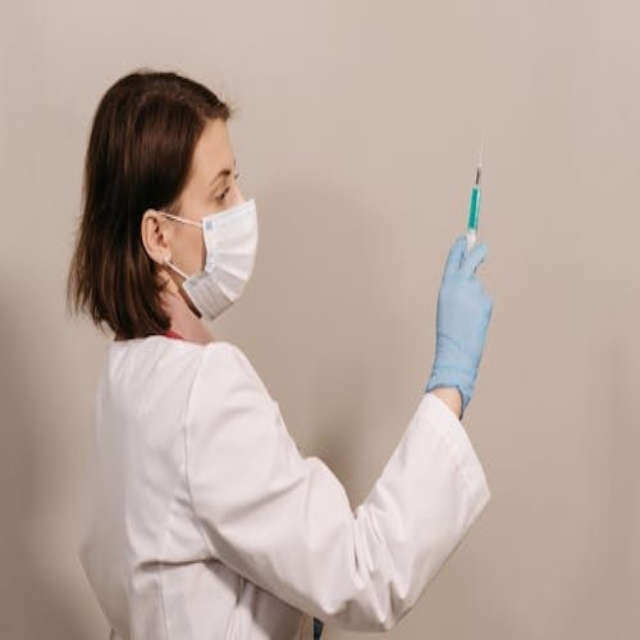Guantes: (424, 230, 491, 418)
Mascara: (163, 195, 258, 320)
Sin_gafas: (214, 182, 232, 204)
